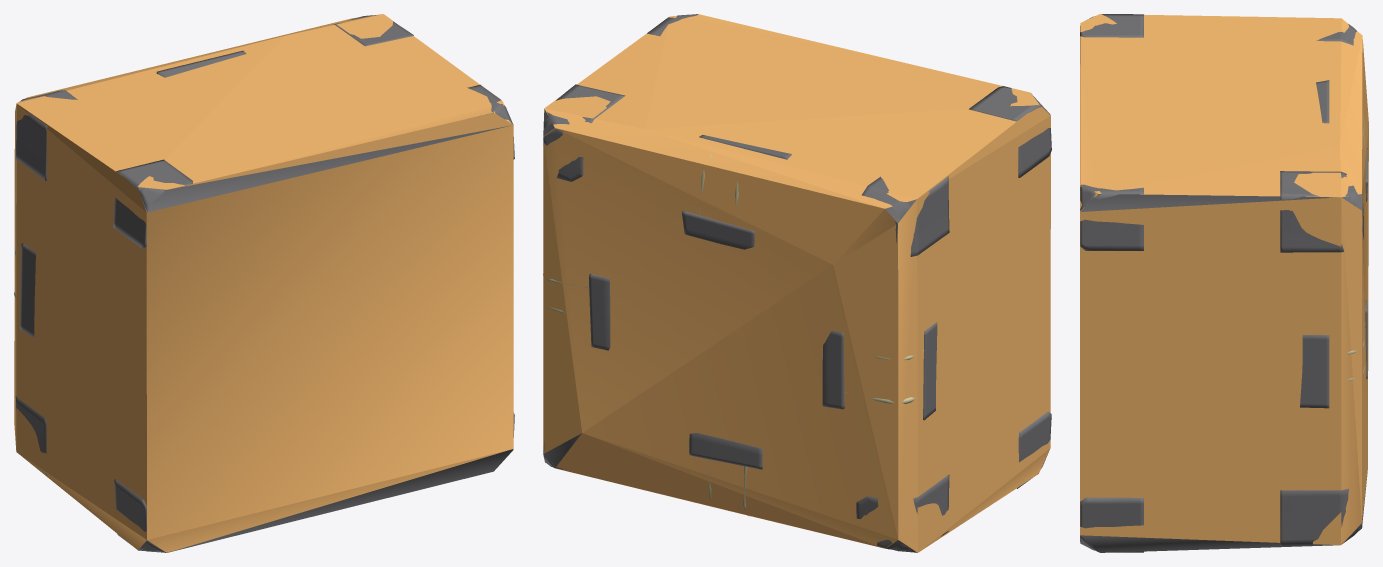
File: small_crate.fbx
3 views of the same model, side by side, from view 1: azimuth 30°, elevation 25°; view 2: azimuth 150°, elevation 25°; view 3: azimuth 270°, elevation 25° (orthographic).
Visible parts, largest first — view 1: c_small_crate, small_crate; view 2: c_small_crate, small_crate; view 3: c_small_crate, small_crate.
Part boxes in pixels (x1,y1,x2,y2): c_small_crate: (14, 14, 513, 552); small_crate: (14, 15, 514, 552); c_small_crate: (543, 14, 1050, 552); small_crate: (543, 14, 1051, 552); c_small_crate: (1080, 14, 1368, 552); small_crate: (1080, 14, 1367, 552).
Bounding box in the file's own units: 89.87 × 84.31 × 60.78.
